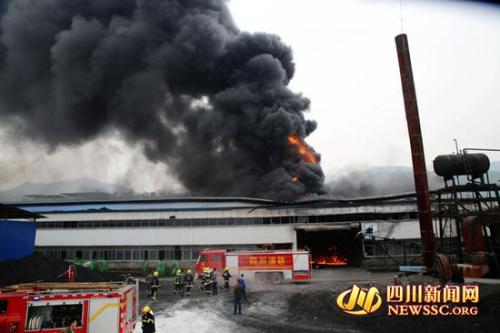smoke: (11, 10, 293, 183)
